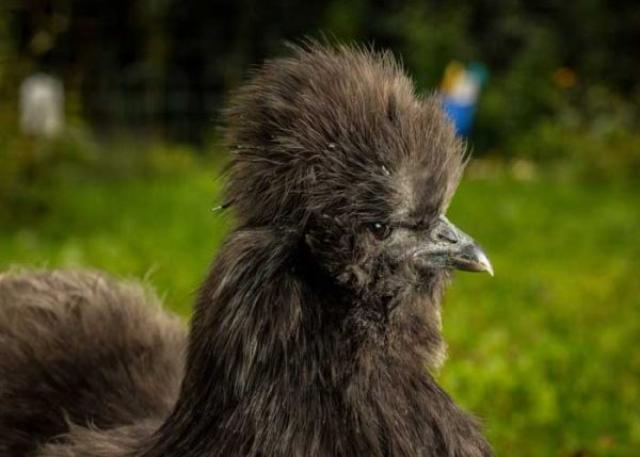Chicken: (0, 37, 496, 457)
